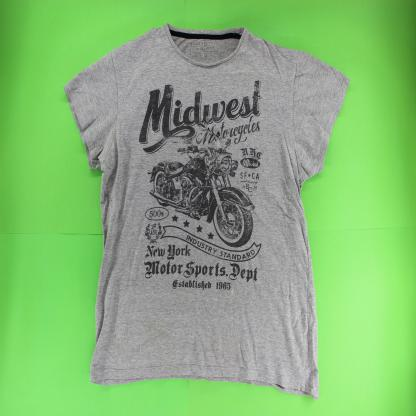hole: (197, 120, 223, 144)
